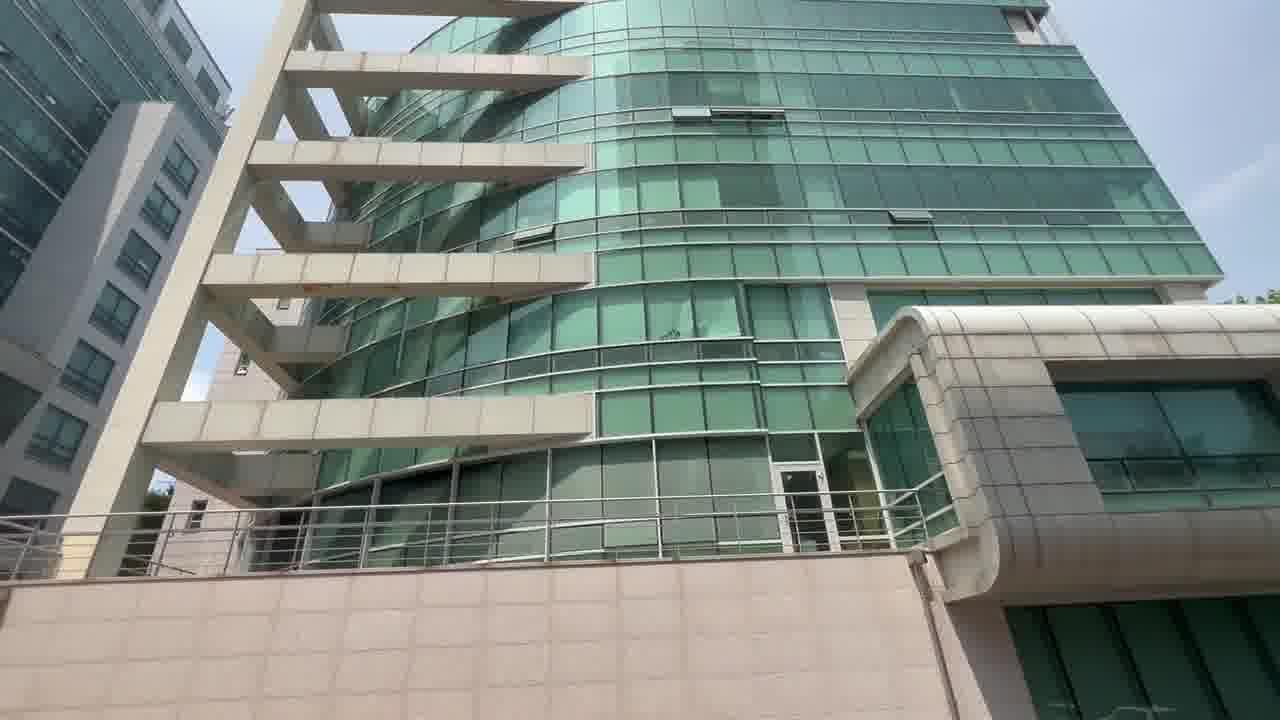building: (224, 8, 1280, 657)
